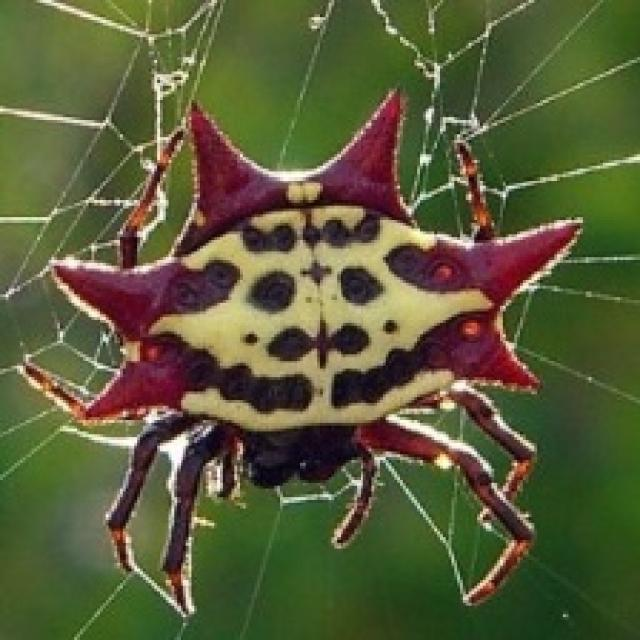Non venomous spider: (47, 90, 566, 509)
